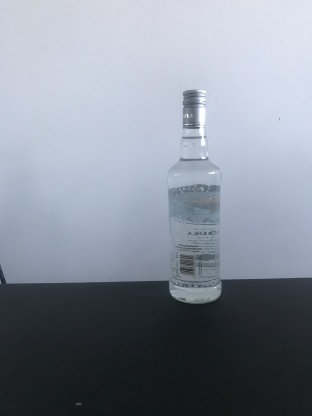nakretka: (181, 86, 208, 131)
